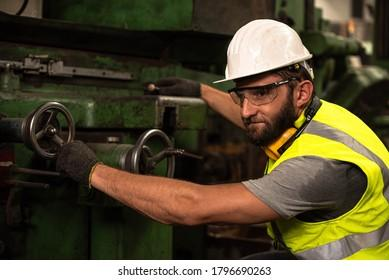gloves: (55, 137, 101, 191), (156, 75, 203, 98)
